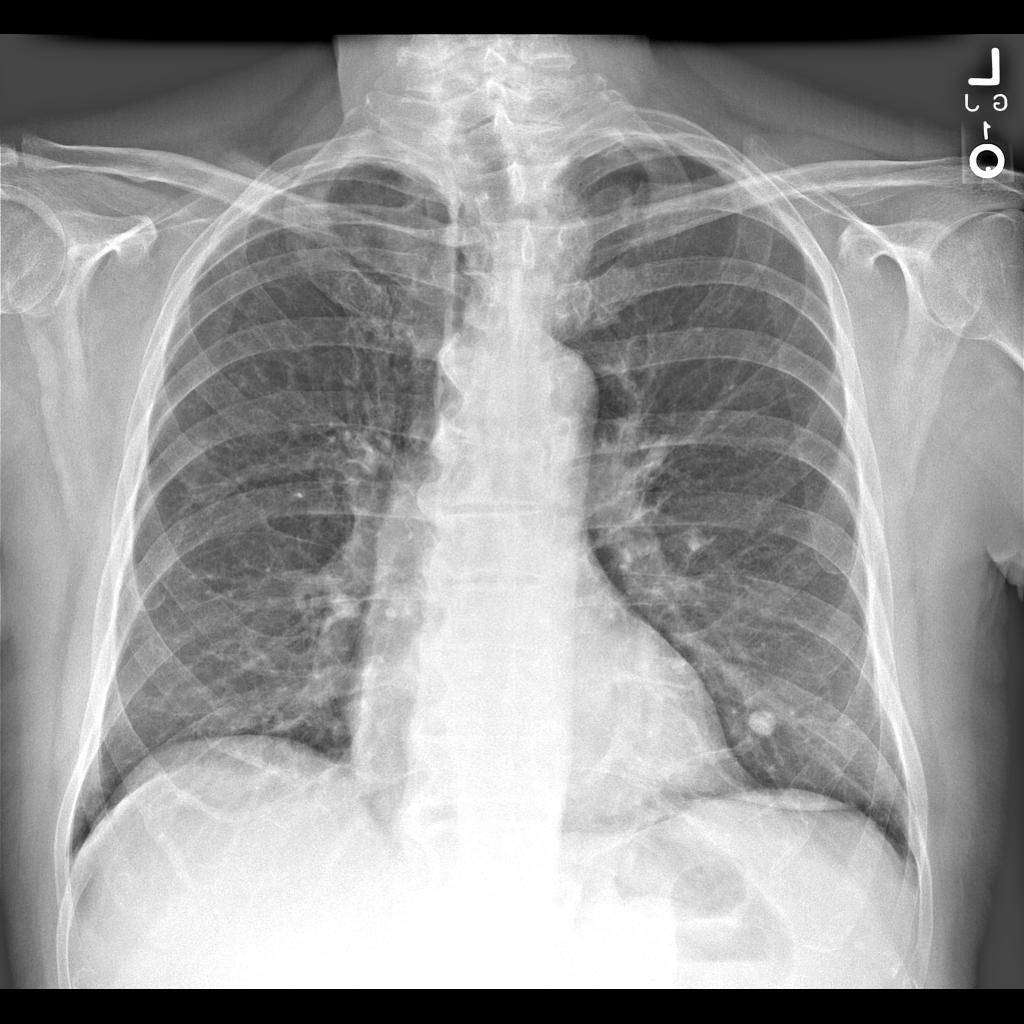Nodule: (738, 699, 792, 737)
